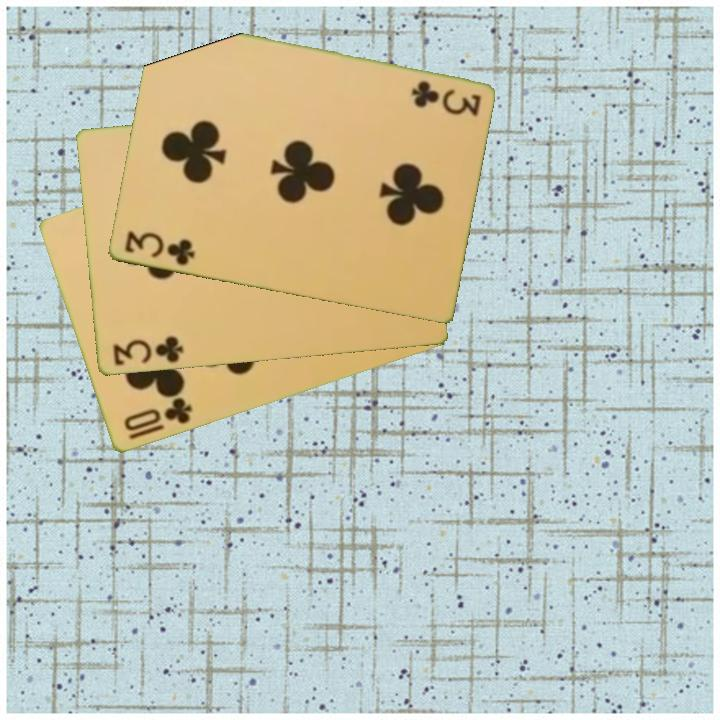10c: (120, 394, 195, 435)
3c: (121, 228, 197, 269), (407, 77, 484, 117), (109, 333, 186, 369)
